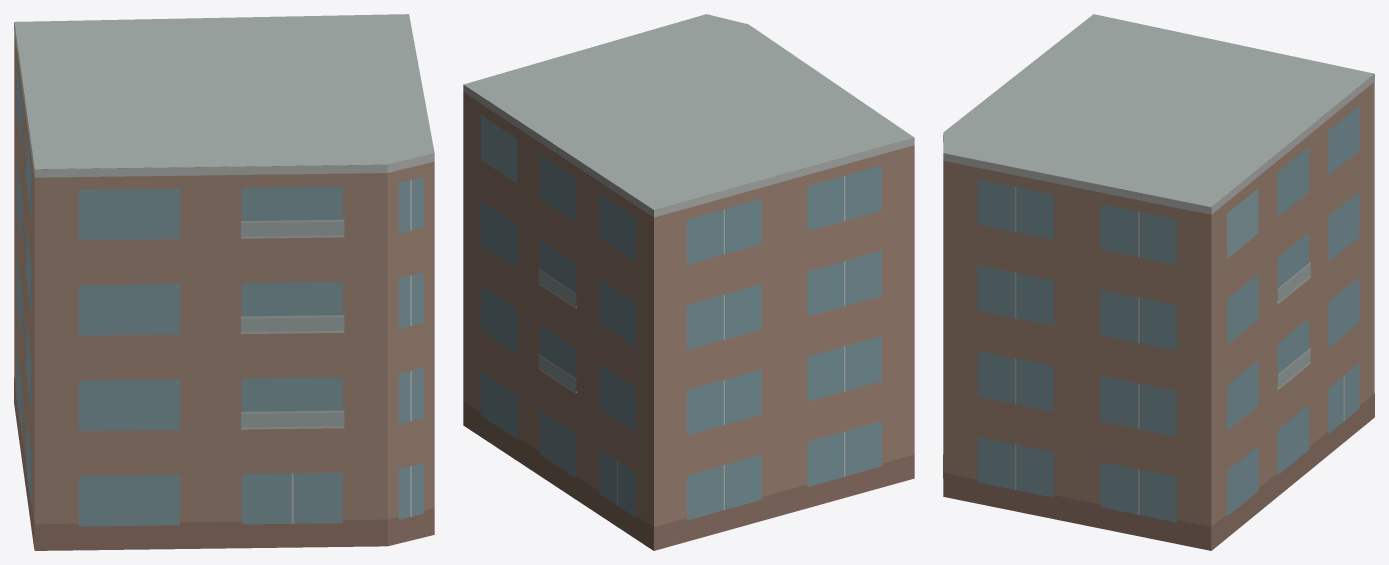
File: survey-upis-32970288.glb
3 views of the same model, side by side, from view 1: azimuth 30°, elevation 25°; view 2: azimuth 150°, elevation 25°; view 3: azimuth 270°, elevation 25° (orthographic). The views are drawn at different scales.
Parts seen in each view (by area): view 1: survey-upis-32970288.tmp; view 2: survey-upis-32970288.tmp; view 3: survey-upis-32970288.tmp.
Part boxes in pixels (left/top/right/bottom): survey-upis-32970288.tmp: left=14, top=14, right=434, bottom=550; survey-upis-32970288.tmp: left=463, top=14, right=914, bottom=550; survey-upis-32970288.tmp: left=943, top=14, right=1374, bottom=550.
Bounding box in the file's own units: 13.28 × 11 × 12.53.
